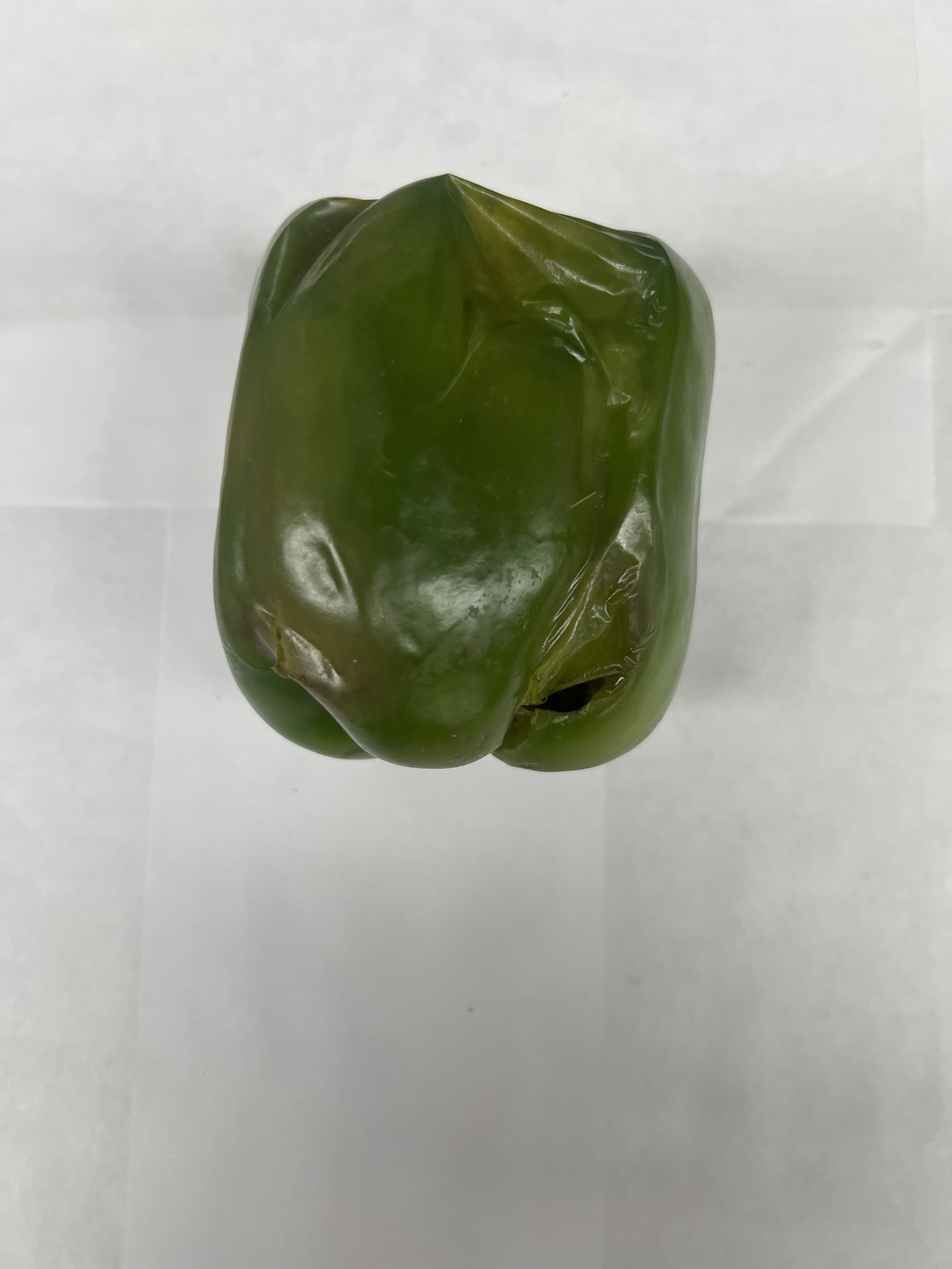visible_cut: (520, 576, 651, 744)
